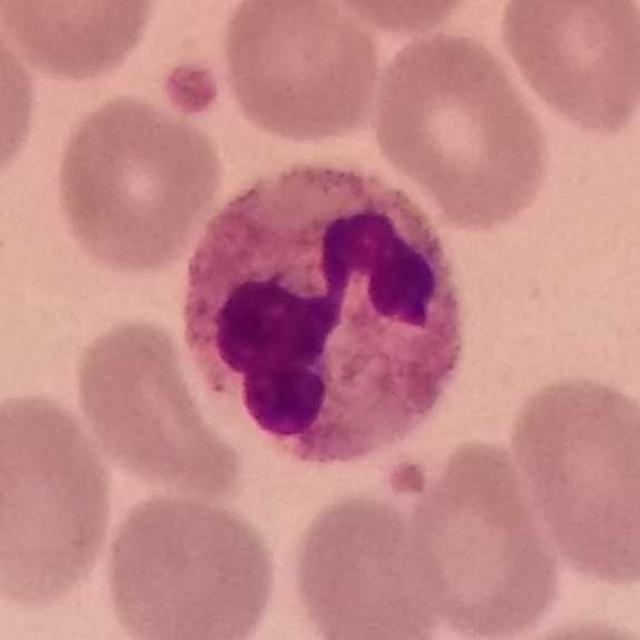Neutrophil: (171, 154, 473, 472)
Platelets: (159, 48, 224, 119), (383, 442, 438, 502)
RBC: (367, 25, 556, 232), (397, 433, 568, 640), (67, 312, 249, 502), (49, 89, 225, 275), (505, 367, 640, 588), (98, 487, 281, 640), (0, 388, 120, 609), (285, 487, 451, 640), (217, 1, 385, 147), (493, 0, 640, 136), (0, 0, 161, 84), (0, 6, 42, 192), (319, 0, 486, 36)
